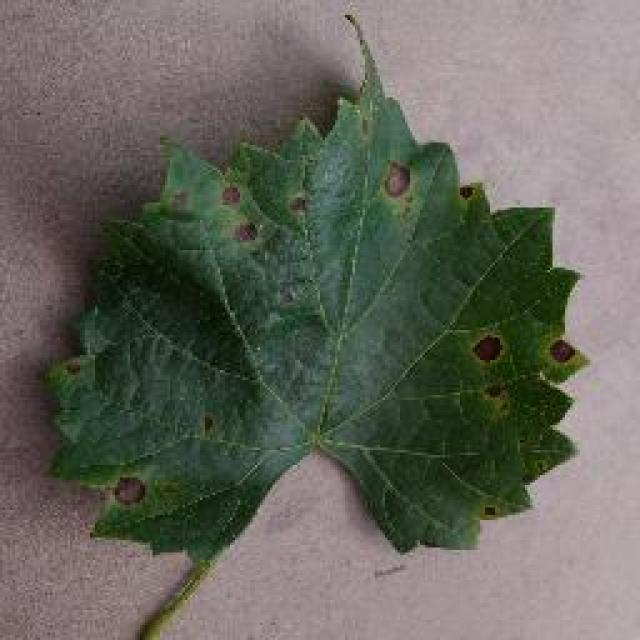Grape___Black_rot: (30, 10, 599, 572)
